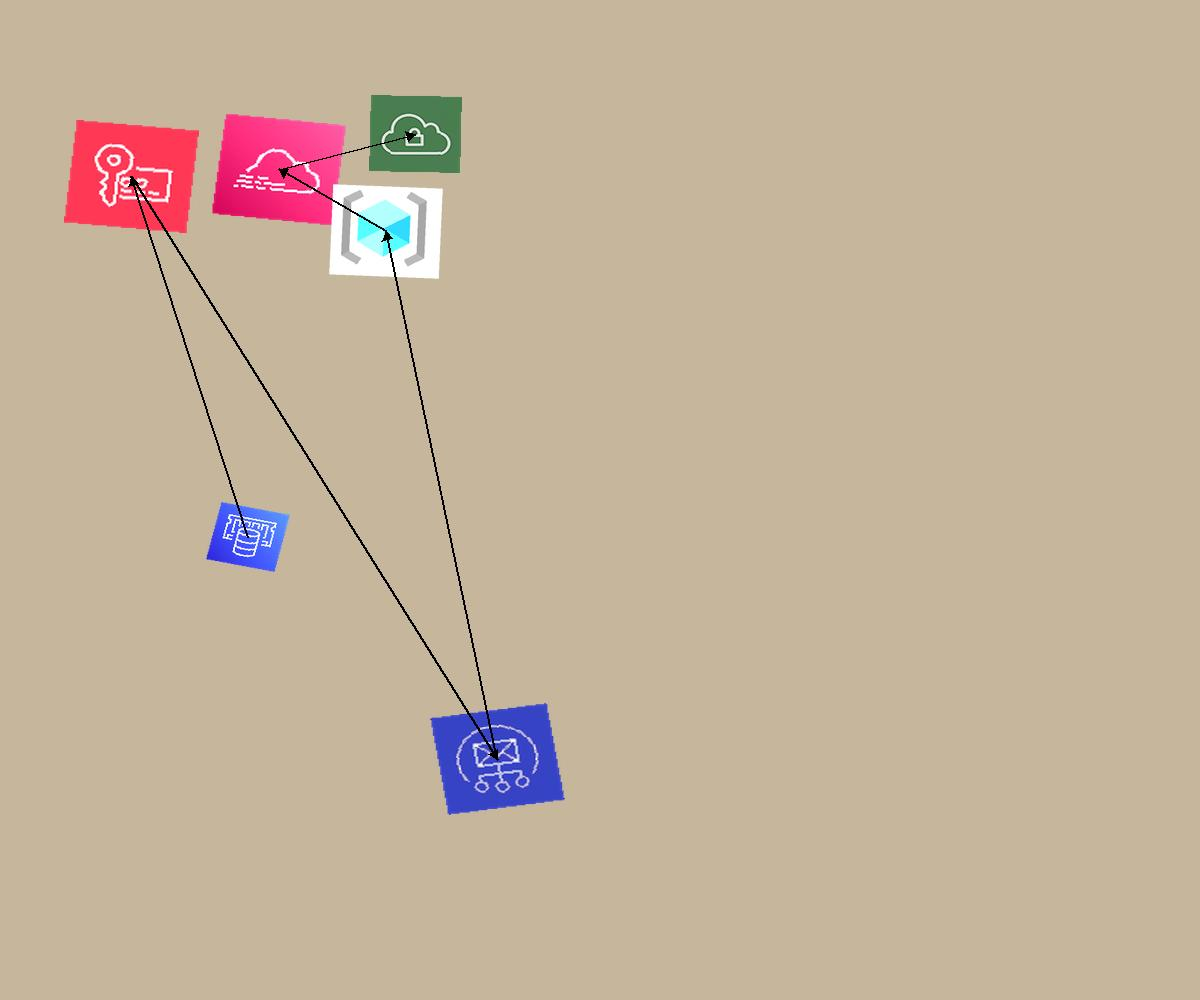AWS-CloudTrail: (211, 113, 347, 226)
AWS-ElastiCache: (206, 502, 290, 572)
AWS-Key-Management-Service: (64, 120, 199, 233)
AWS-Private_vpc: (369, 95, 462, 173)
AWS-Simple-Email-Service: (430, 703, 565, 815)
Azure_resource_group: (329, 184, 443, 279)
